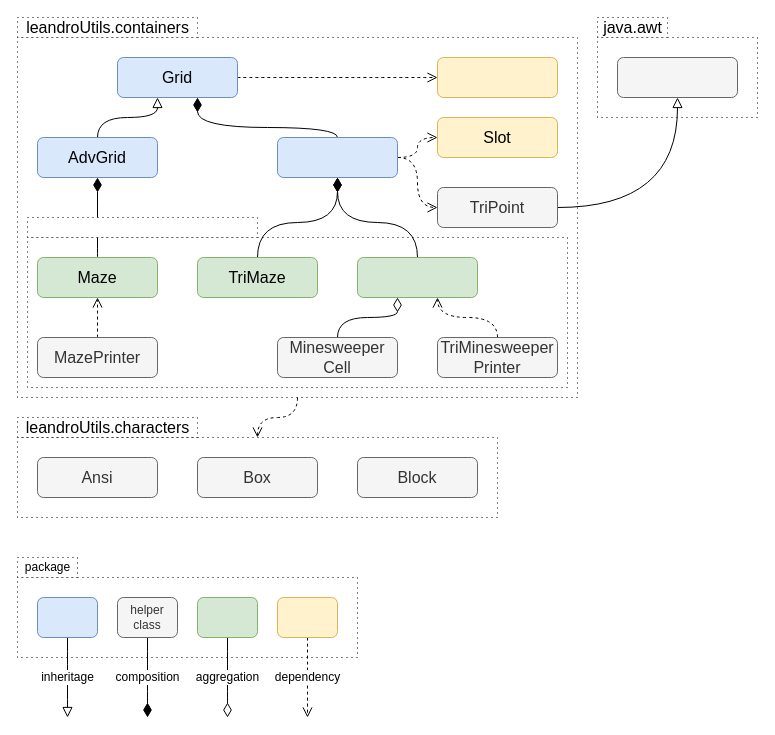
This 775x735 diagram has some shape labels left out. Each missing label, with the centre of its shape:
"class" belongs at point (67, 617).
"Direction" belongs at point (497, 77).
"enum" belongs at point (307, 617).
"game class" belongs at point (227, 617).
"leandroUtils.containers.games" belongs at point (142, 227).
"Point" belongs at point (677, 77).
"TriGrid" belongs at point (337, 157).
"TriMinesweeper" belongs at point (417, 277).
